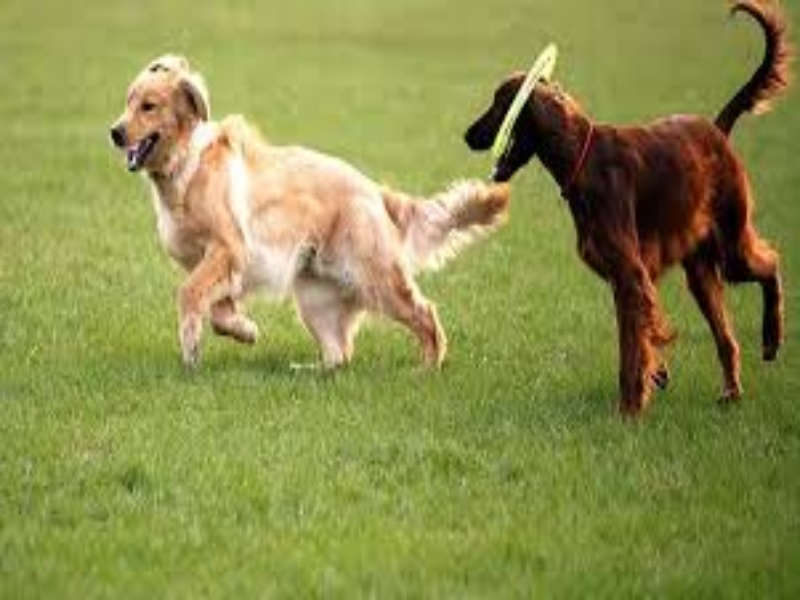dog: (69, 41, 464, 427), (424, 58, 773, 433)
